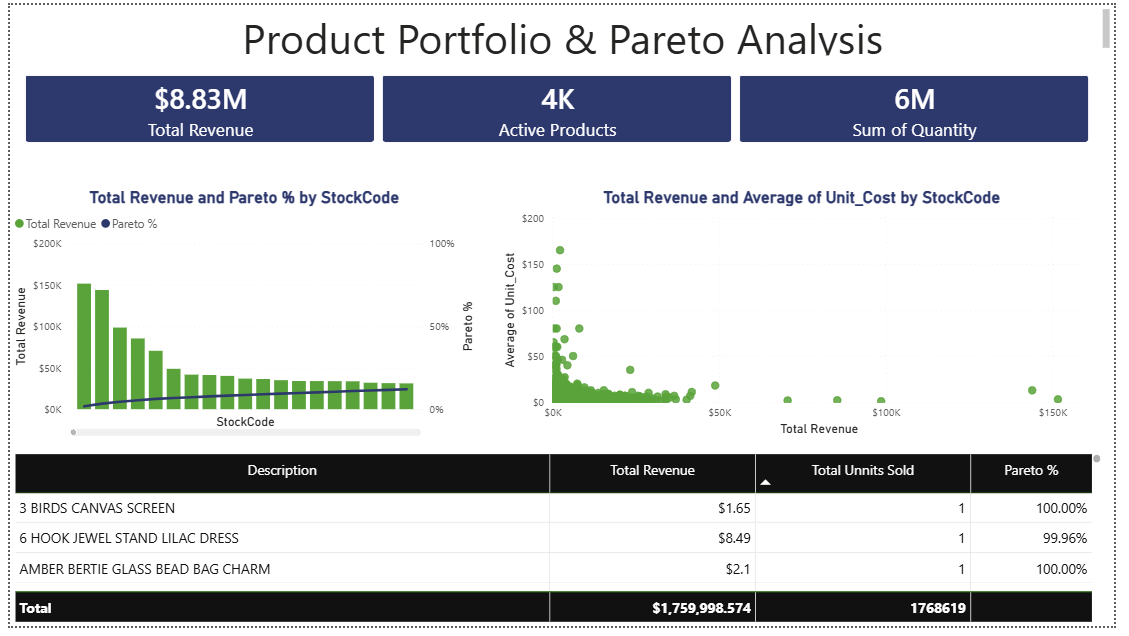

The dashboard page shown, as its layout file describes it:
{"tool":"powerbi","page":{"name":"Product Intelligence","canvas":[1280,720],"ordinal":1},"visuals":[{"type":"textbox","box":[10.1,0,1269.6,63.8],"z":0},{"type":"cardVisual","fields":{"Data":["_Key Measures.Total Revenue","_Key Measures.Active Products","Sum(Sales.Quantity)"]},"box":[0,63.8,1269.6,113],"z":1000},{"type":"lineClusteredColumnComboChart","fields":{"Y":["_Key Measures.Total Revenue"],"Y2":["_Key Measures.Pareto %"],"Category":["Products.StockCode"]},"box":[0,211.6,543.5,292.8],"z":2000},{"type":"scatterChart","fields":{"Y":["Products.Unit_Cost"],"X":["_Key Measures.Total Revenue"],"Category":["Products.StockCode"]},"box":[566.7,211.6,702.9,292.8],"z":3000},{"type":"tableEx","fields":{"Values":["Products.Description","_Key Measures.Total Revenue","Sum(Sales.Quantity)","_Key Measures.Pareto %"]},"box":[0,515.9,1269.6,204.3],"z":4000}]}

Visuals, with their boxes in screenshot pixels (x1, y1, x2, y2), scaled from the page's 1280x720 canvas onto the 1129x636 screenshot:
textbox: 9, 0, 1128, 56
cardVisual - _Key Measures.Total Revenue x _Key Measures.Active Products: 0, 56, 1120, 156
lineClusteredColumnComboChart - _Key Measures.Total Revenue x _Key Measures.Pareto %: 0, 187, 479, 446
scatterChart - Products.Unit_Cost x _Key Measures.Total Revenue: 500, 187, 1120, 446
tableEx - Products.Description x _Key Measures.Total Revenue: 0, 456, 1120, 635
